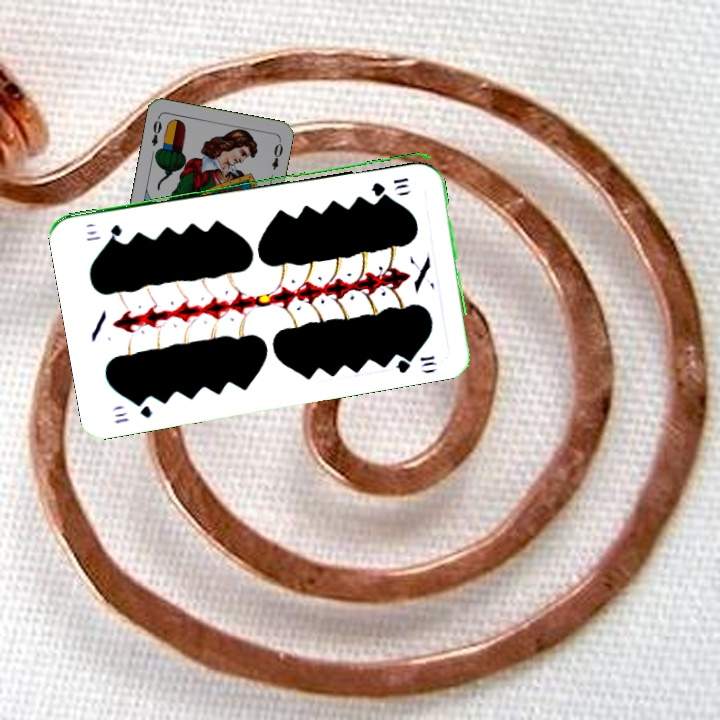EO: (147, 113, 164, 149)
G10: (111, 396, 155, 426), (367, 174, 411, 195)
